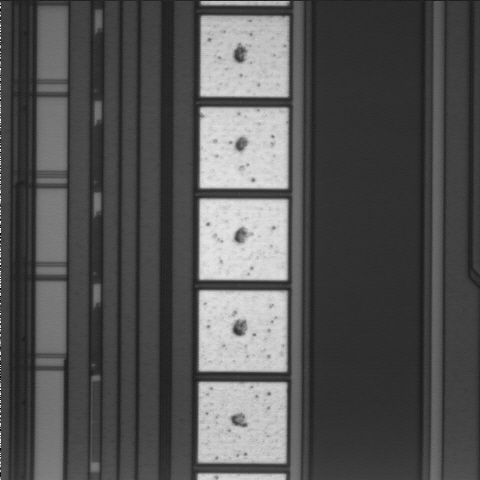pad: (199, 199, 287, 280), (199, 291, 287, 372), (198, 382, 286, 463), (200, 108, 288, 188), (201, 17, 288, 97)
